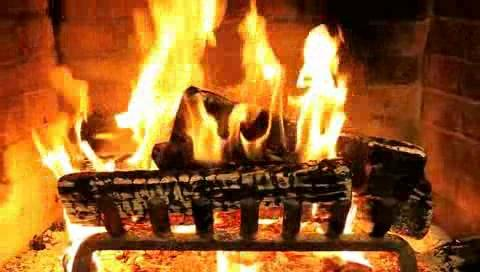fire: (79, 5, 351, 162)
